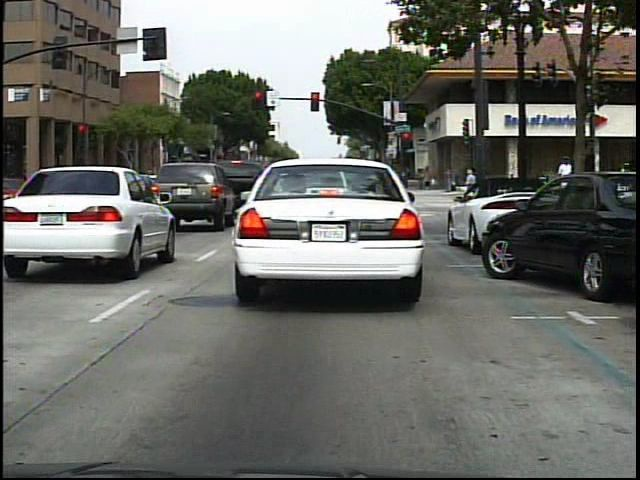person: (554, 152, 578, 215), (614, 156, 635, 209), (461, 163, 483, 212), (421, 163, 438, 193), (441, 164, 454, 196), (35, 164, 50, 190)
